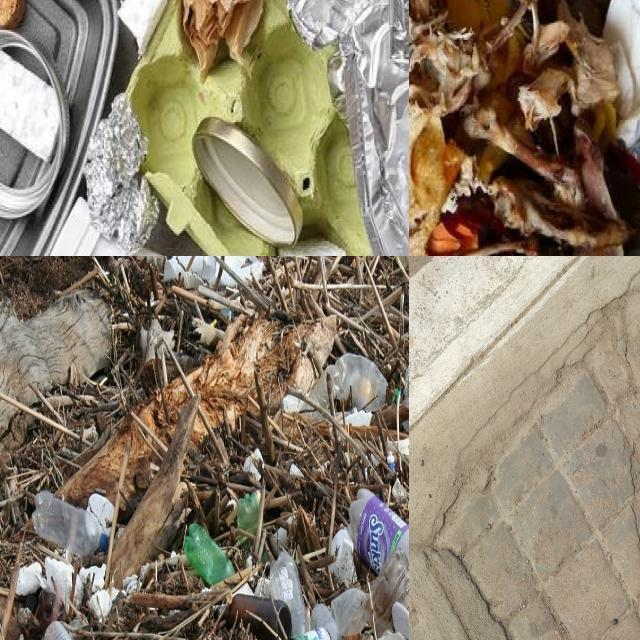Background: (409, 256, 640, 640)
Garbage: (0, 256, 409, 640), (409, 0, 640, 256)
Metal: (288, 0, 409, 256), (192, 117, 304, 246), (0, 31, 69, 218), (84, 93, 159, 256)
Plastic_Bag: (310, 356, 387, 410)
Plastic_bottle: (349, 490, 409, 573), (32, 490, 102, 557), (184, 523, 235, 585), (269, 550, 306, 635), (226, 593, 292, 640), (371, 548, 409, 629), (332, 588, 367, 636), (310, 604, 342, 640), (237, 492, 260, 534)
Tin_box: (289, 629, 331, 640)
contaminated_waste: (604, 0, 640, 146)
